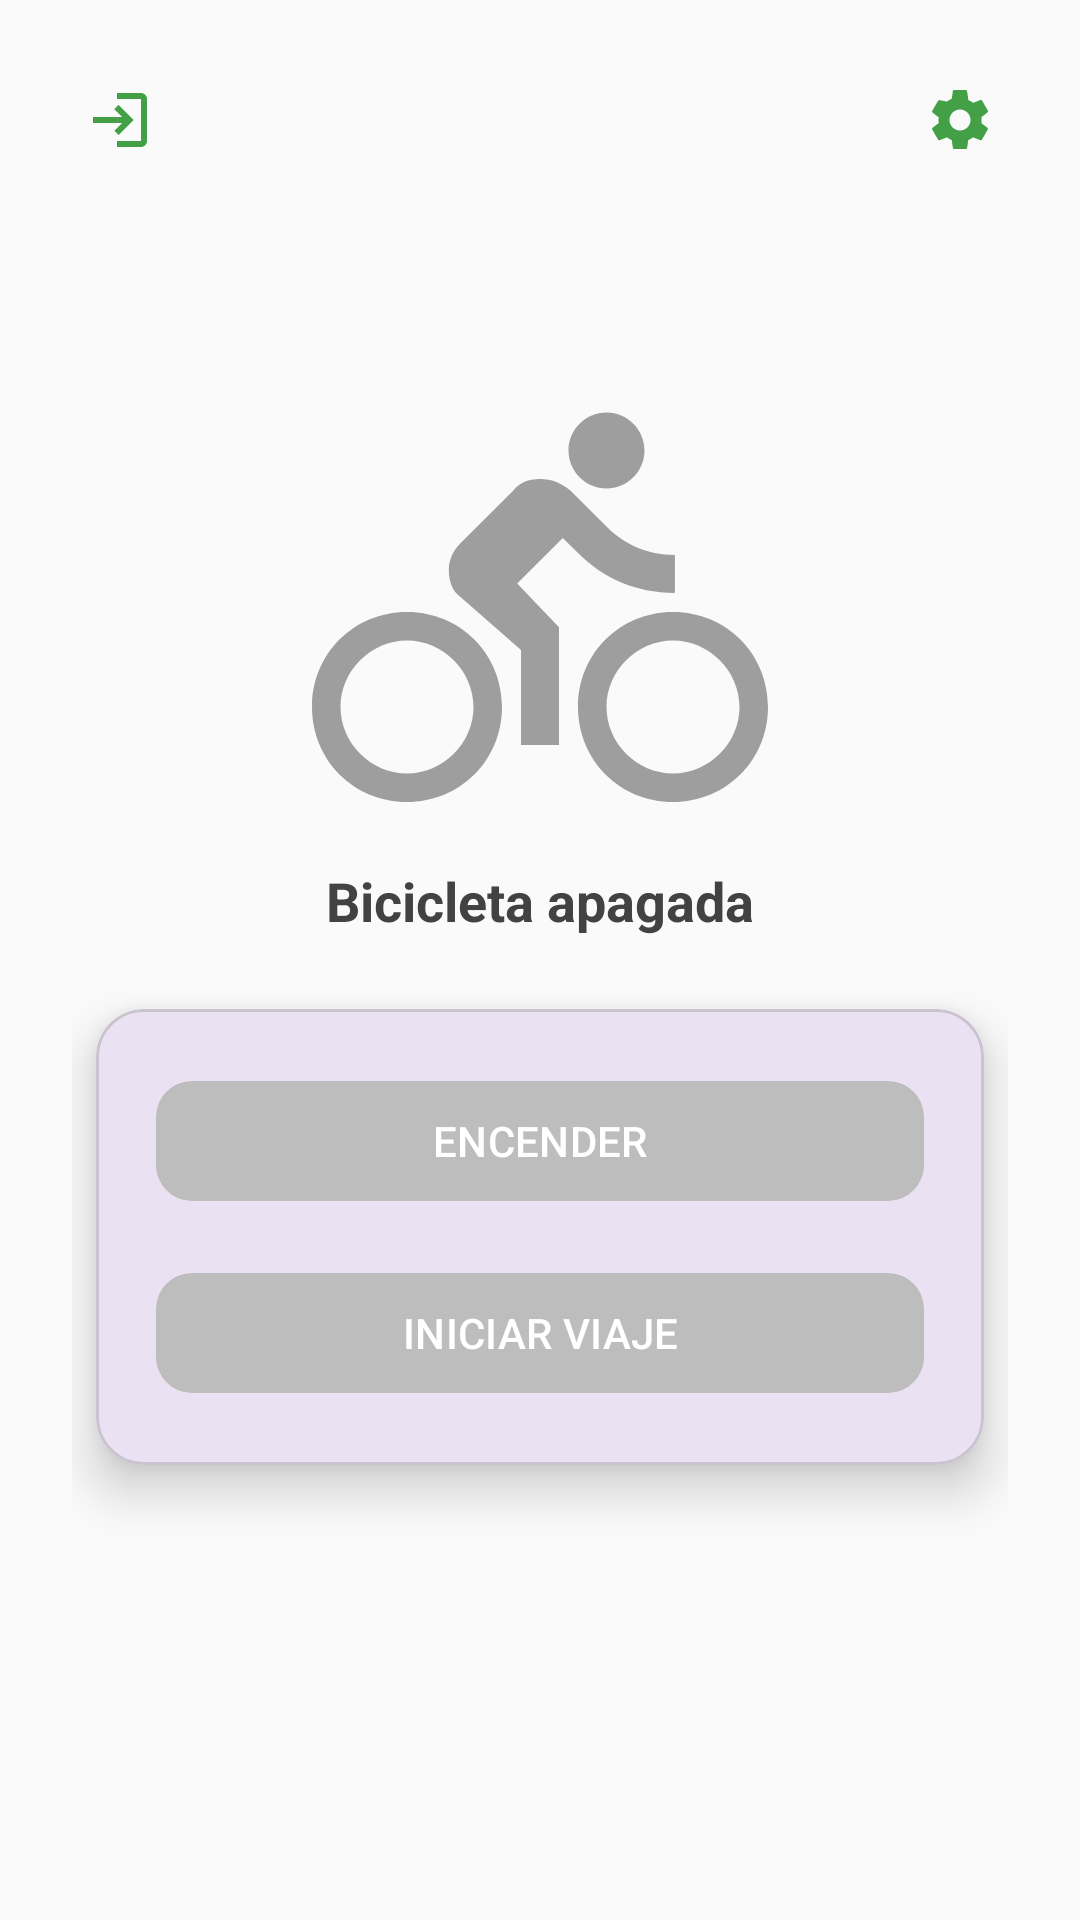

Icons on this 1080px×1920px Android screen, each with its box as (x1, y1, x2, y2):
Ajustes: (932, 90, 988, 149)
